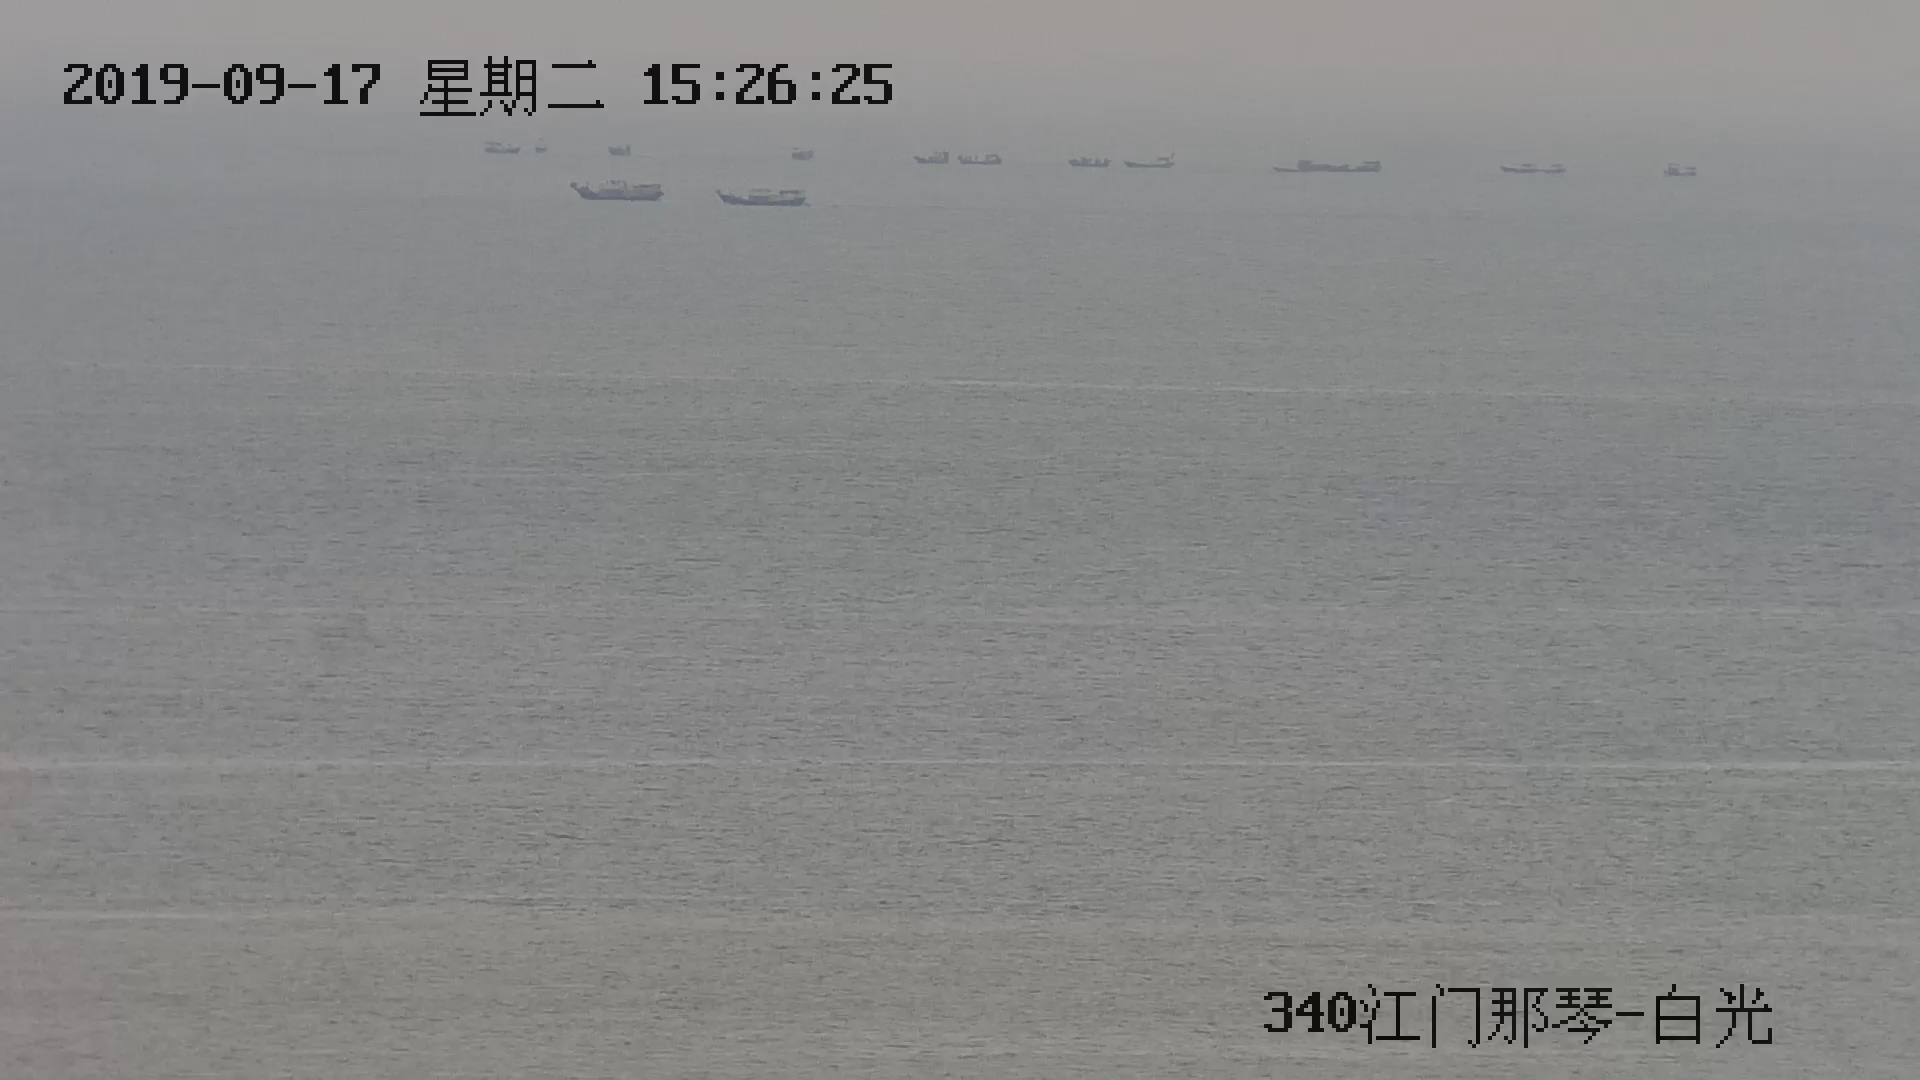ship: (1280, 149, 1386, 177), (570, 179, 665, 203), (717, 189, 808, 208), (1121, 152, 1171, 174), (916, 149, 944, 171), (1065, 154, 1104, 169), (963, 153, 1000, 167)
